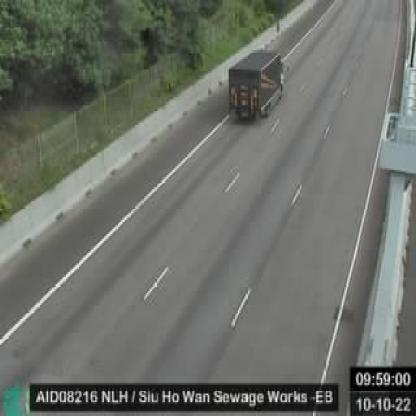Truck: (226, 49, 286, 124)
